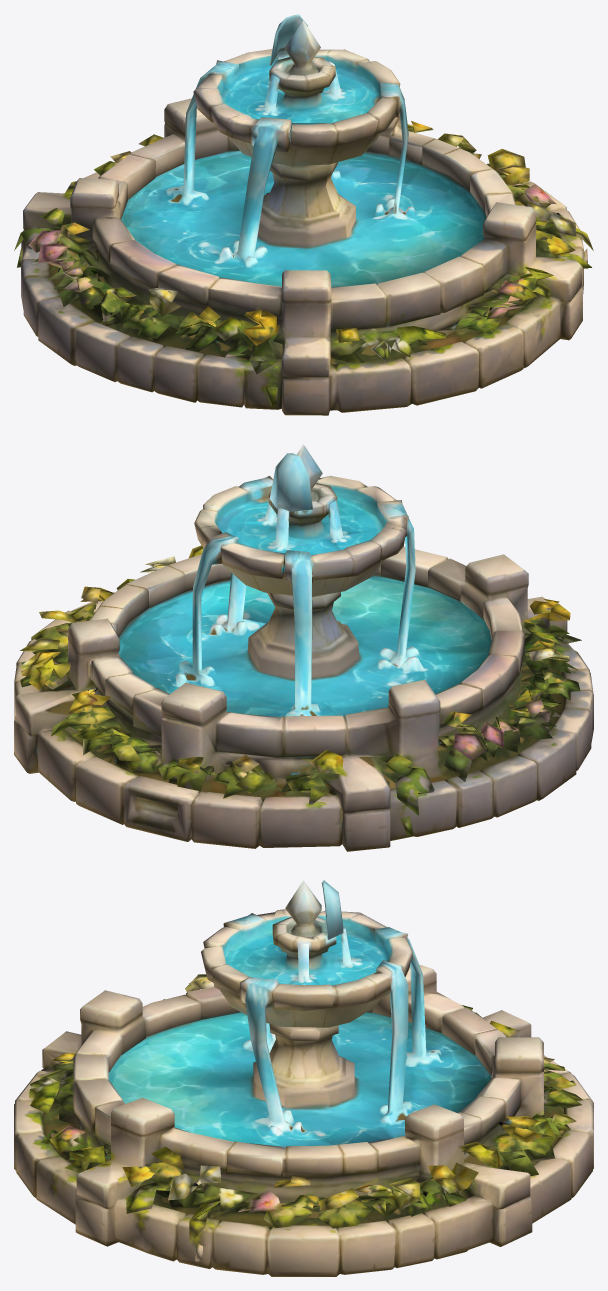
The picture shows the model from 3 angles, top to bottom: view 1: azimuth 30°, elevation 25°; view 2: azimuth 150°, elevation 25°; view 3: azimuth 270°, elevation 25°; orthographic projection. The views are drawn at different scales.
Visible parts, largest first — view 1: tripo_node_598a35f2-b5af-4342-ab31-6b6565de19ae; view 2: tripo_node_598a35f2-b5af-4342-ab31-6b6565de19ae; view 3: tripo_node_598a35f2-b5af-4342-ab31-6b6565de19ae.
Boxes of the visible parts, x1,y1,x2,y2 form: tripo_node_598a35f2-b5af-4342-ab31-6b6565de19ae: (14,14,593,415); tripo_node_598a35f2-b5af-4342-ab31-6b6565de19ae: (14,444,593,851); tripo_node_598a35f2-b5af-4342-ab31-6b6565de19ae: (14,880,593,1276).
Bounding box in the file's own units: 0.9695 × 0.5144 × 0.9733.
1 material, 1 textured.
